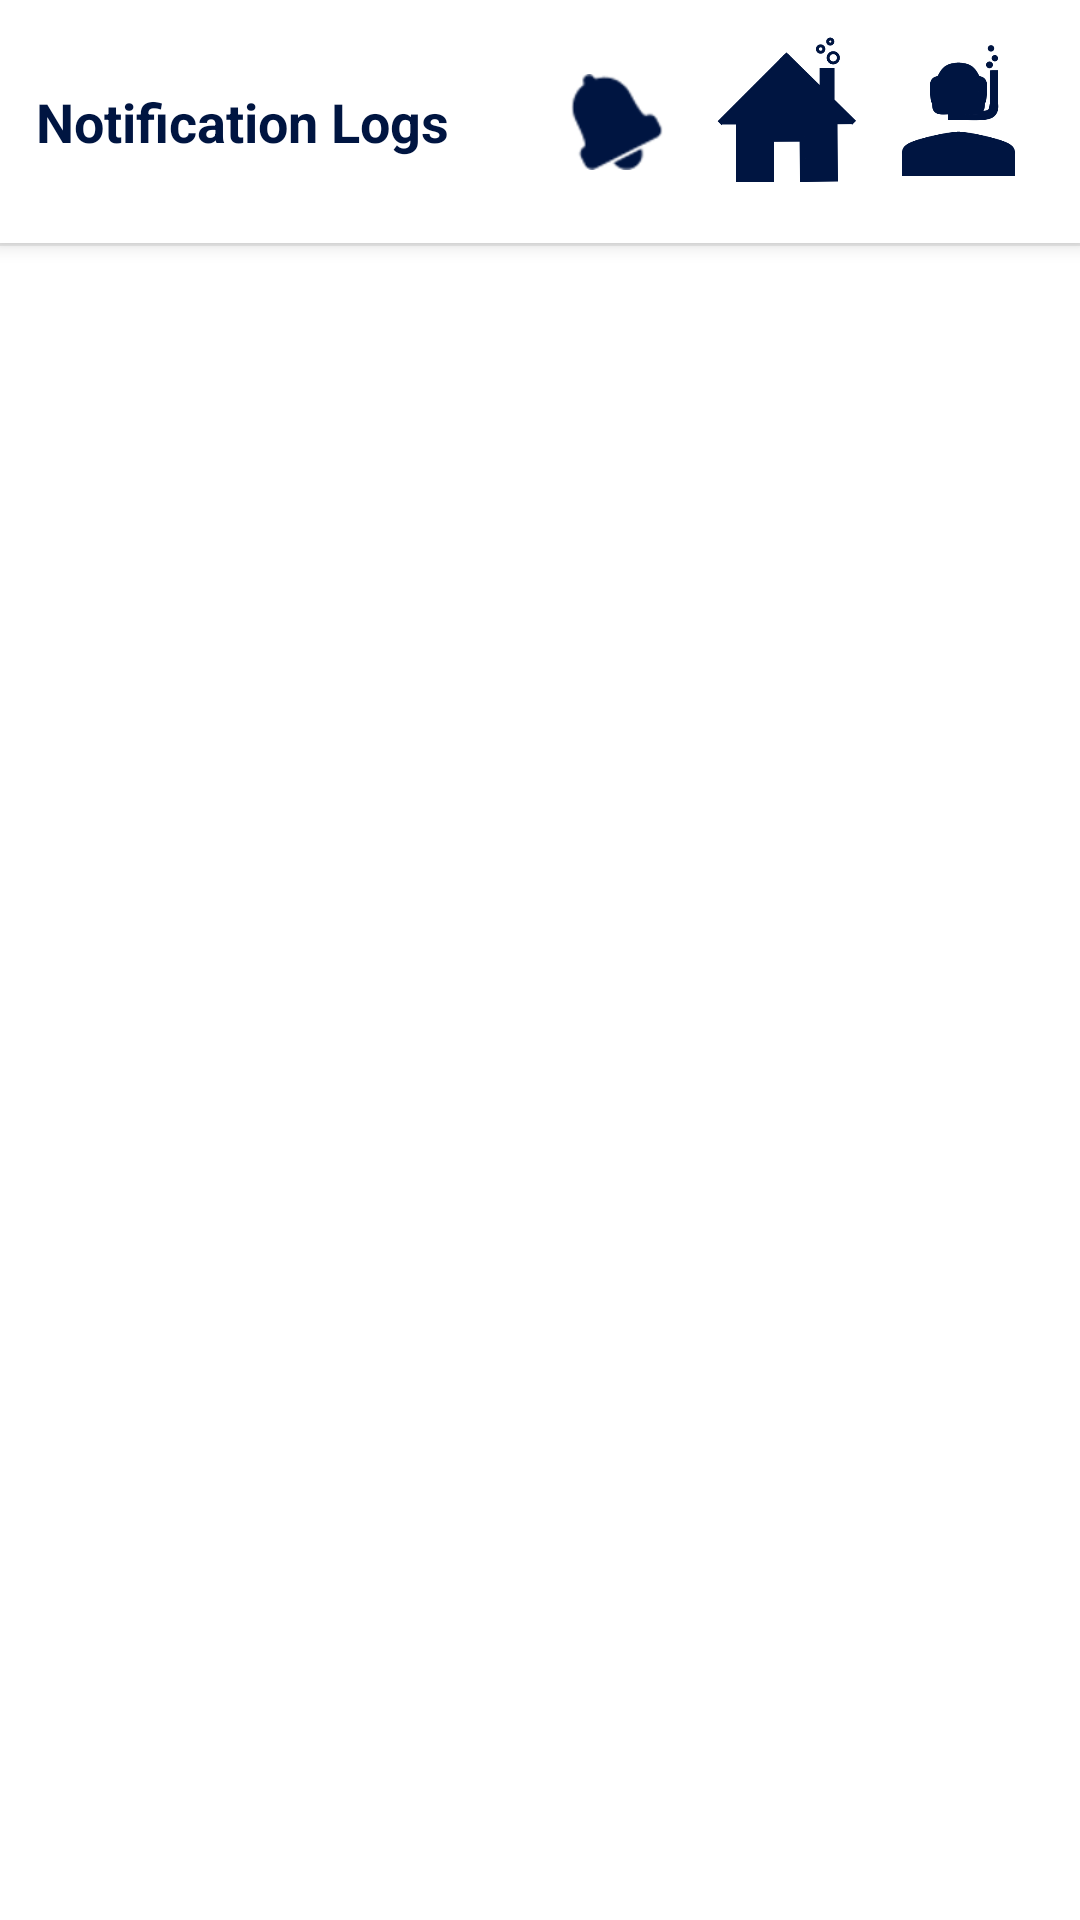

Screen size 1080×1920. Icon name, then its center in pixels as (x,y):
hometoolbar: (787,109)
popup reminder: (617,122)
profiletoolbar: (958,110)
